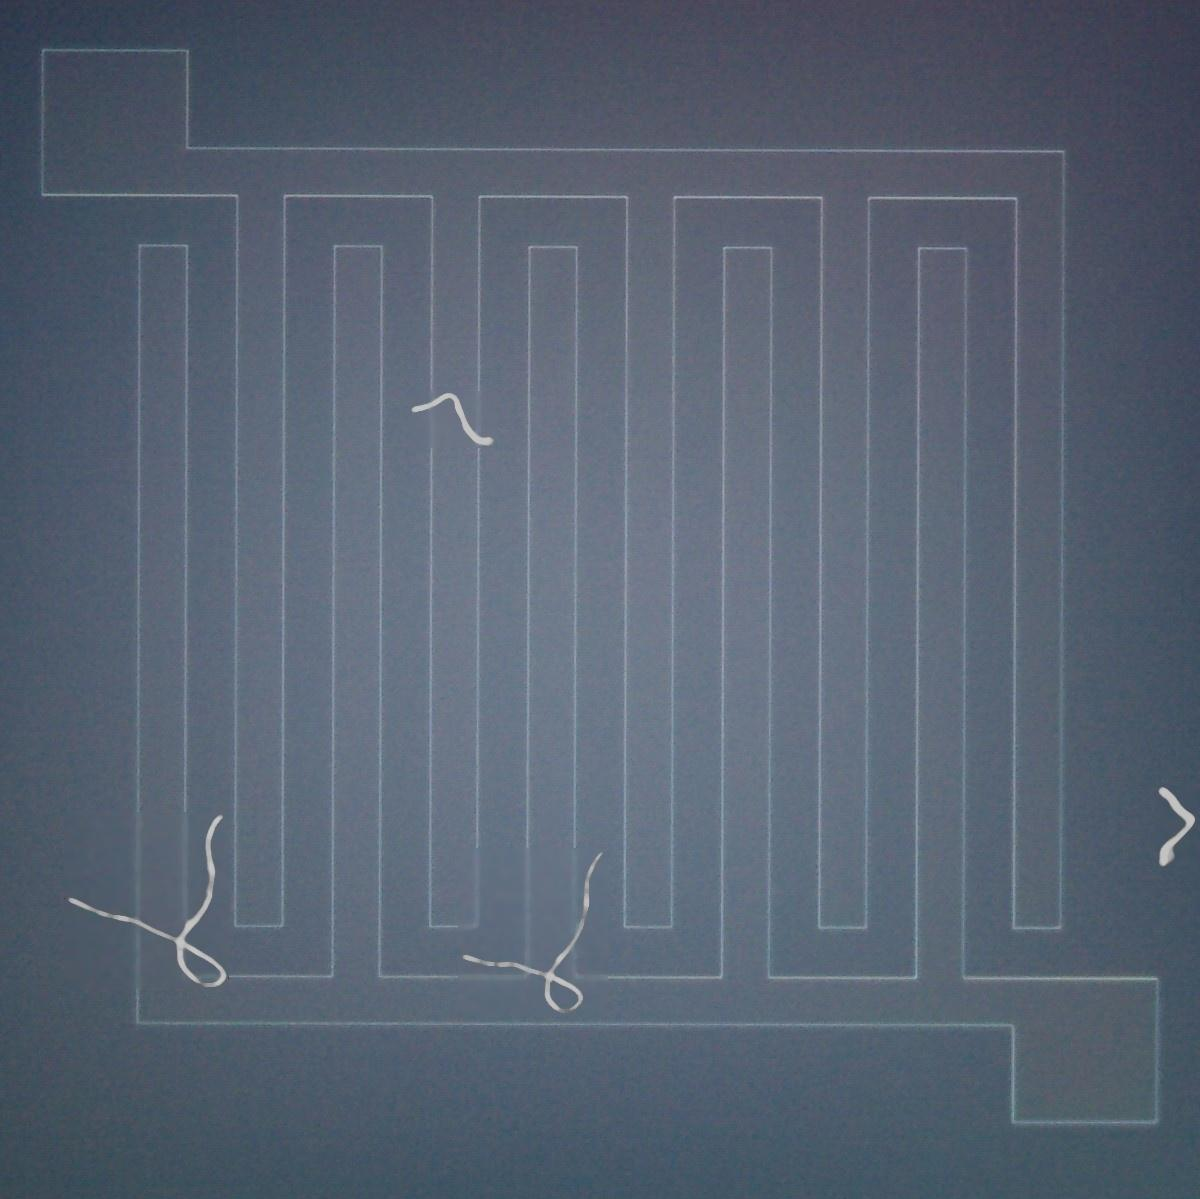foreign: (65, 811, 235, 994), (459, 841, 610, 1023), (405, 381, 500, 456), (1153, 780, 1200, 874)
